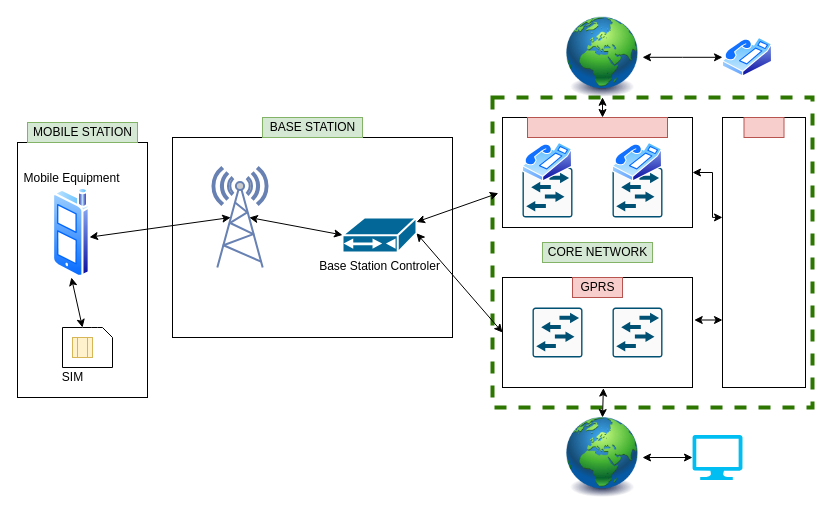
Image size: 832x515. Some labels were removed from this diagram. Each missing label, with the centre of its shape:
"Base Transceiver Station" belongs at point (239, 217).
"Mobile Switching Centre" belongs at point (597, 127).
"SMS" belongs at point (763, 127).
